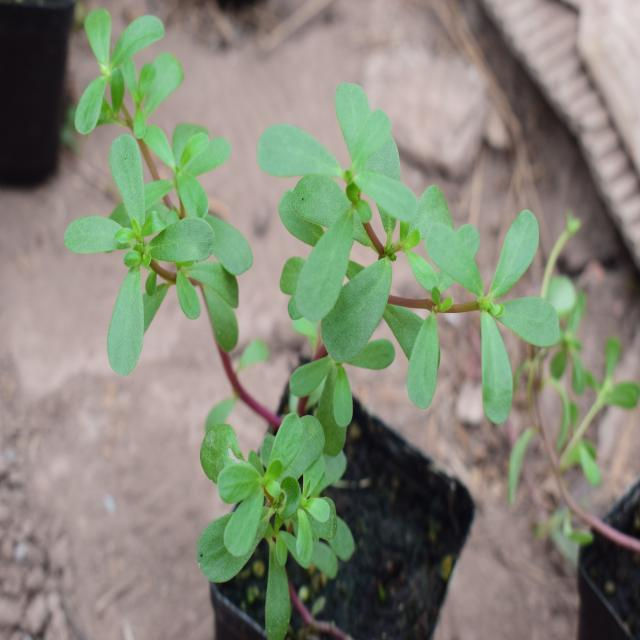purslane: (66, 11, 545, 590)
